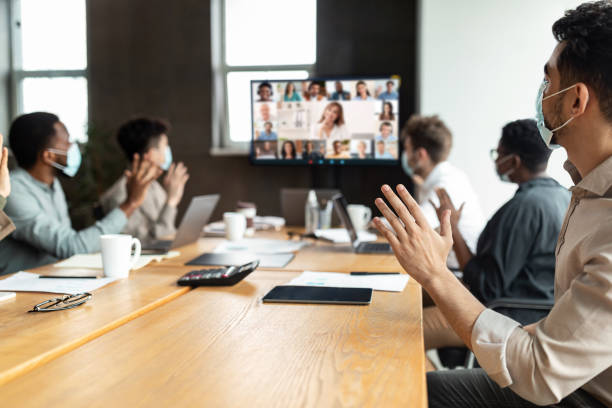with mask: (521, 12, 611, 154), (18, 115, 84, 178), (397, 121, 455, 179), (124, 113, 182, 171), (485, 129, 543, 187)
